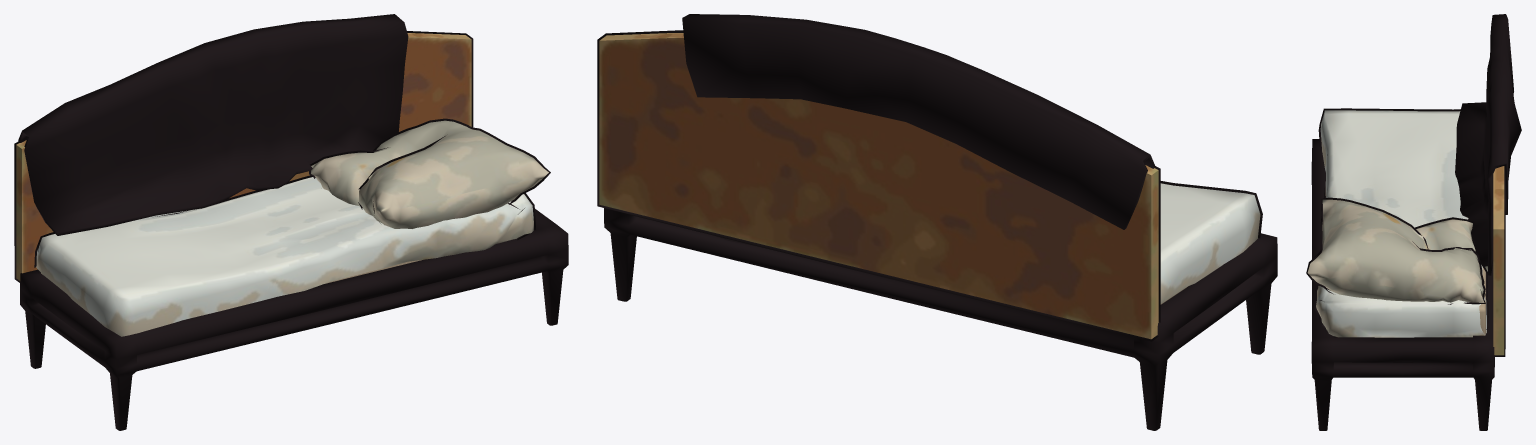
The model's file is SM_Int_DayBed.fbx.
The picture shows the model from 3 angles, left to right: view 1: azimuth 30°, elevation 25°; view 2: azimuth 150°, elevation 25°; view 3: azimuth 270°, elevation 25°; orthographic projection. The views are drawn at different scales.
Parts seen in each view (by area): view 1: SM_Int_DayBed; view 2: SM_Int_DayBed; view 3: SM_Int_DayBed.
Boxes of the visible parts, x1,y1,x2,y2 form: SM_Int_DayBed: (14,14,568,430); SM_Int_DayBed: (597,14,1277,430); SM_Int_DayBed: (1306,14,1521,430).
Size of what is drawn, in the model's own units: 1.99 by 1.14 by 0.8675.
